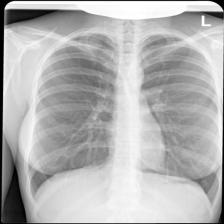tuberculosis: (20, 21, 222, 224)
